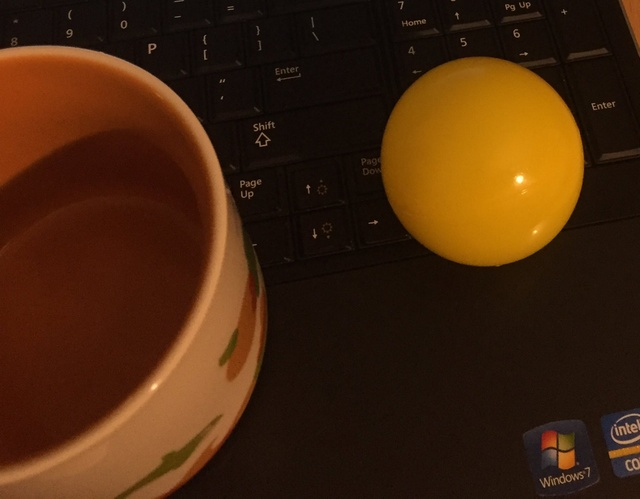ball: (375, 54, 588, 266)
